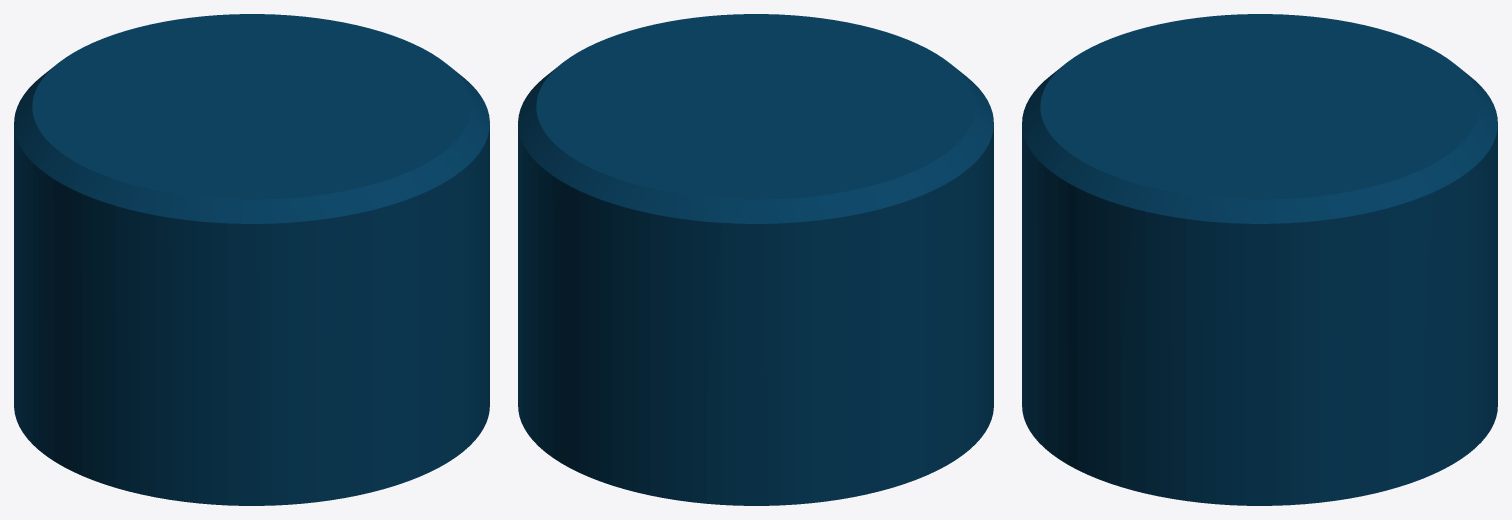
File: cammfollw.glb
The picture shows the model from 3 angles, left to right: view 1: azimuth 30°, elevation 25°; view 2: azimuth 150°, elevation 25°; view 3: azimuth 270°, elevation 25°; orthographic projection.
Visible parts, largest first — view 1: cammfollw.glb; view 2: cammfollw.glb; view 3: cammfollw.glb.
Part boxes in pixels (bbox=[...]): cammfollw.glb: bbox=[14, 14, 489, 505]; cammfollw.glb: bbox=[518, 14, 993, 505]; cammfollw.glb: bbox=[1022, 14, 1497, 505].
Bounding box in the file's own units: 57.78 × 40 × 57.78.
